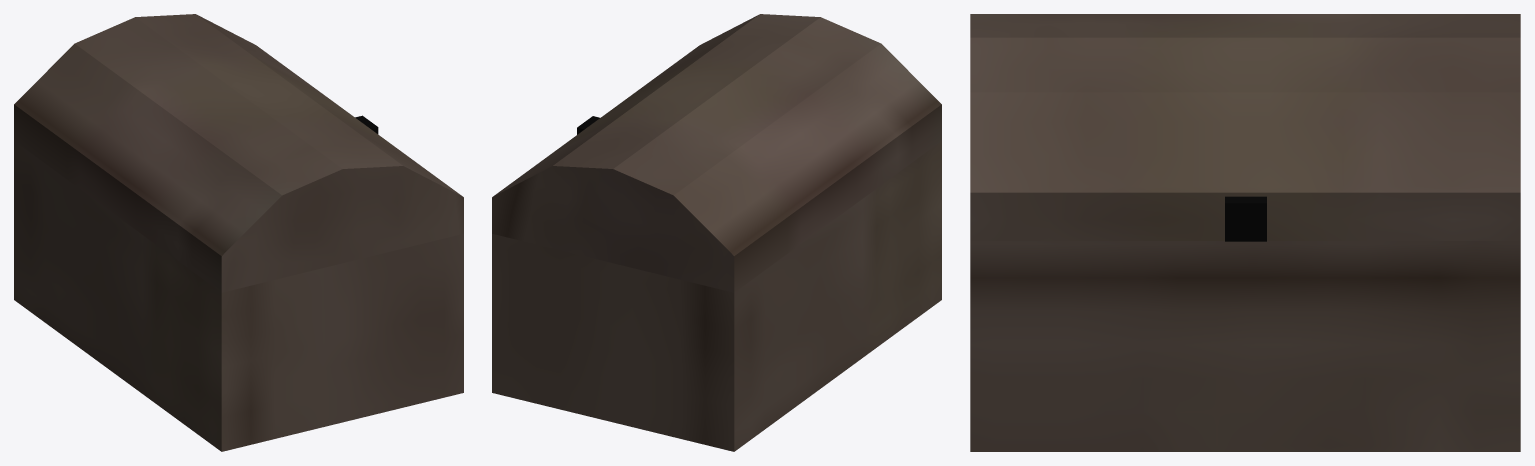
Rendered from ToyChest.fbx.
The picture shows the model from 3 angles, left to right: view 1: azimuth 30°, elevation 25°; view 2: azimuth 150°, elevation 25°; view 3: azimuth 270°, elevation 25°; orthographic projection. The views are drawn at different scales.
Visible parts, largest first — view 1: Toy Chest Lid, Toy Chest; view 2: Toy Chest Lid, Toy Chest; view 3: Toy Chest Lid, Toy Chest.
Boxes of the visible parts, box(x1,y1,x2,y2) form: Toy Chest Lid: box(14, 14, 463, 292); Toy Chest: box(14, 141, 463, 451); Toy Chest Lid: box(492, 14, 941, 292); Toy Chest: box(492, 141, 941, 451); Toy Chest Lid: box(970, 14, 1520, 241); Toy Chest: box(970, 241, 1520, 451).
Size of the model in its own units: 52.39 by 36.84 by 35.28.
